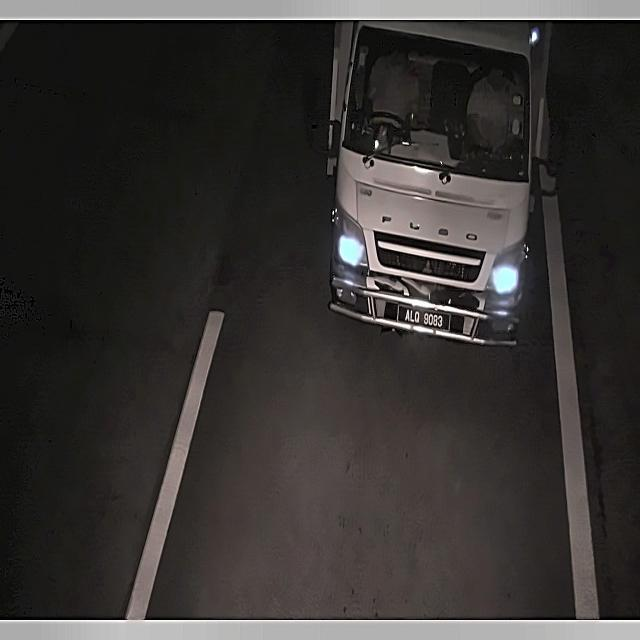car: (395, 298, 455, 340)
